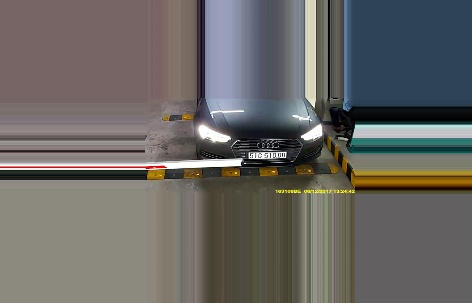plate: (246, 146, 288, 161)
